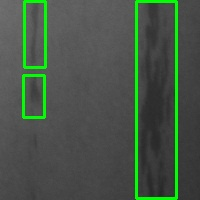inclusion: (136, 1, 176, 198), (24, 1, 45, 67), (23, 75, 44, 117), (29, 130, 44, 156)
